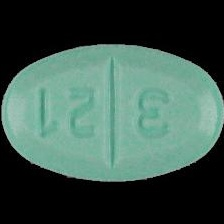50436-7073: (0, 0, 224, 224)
